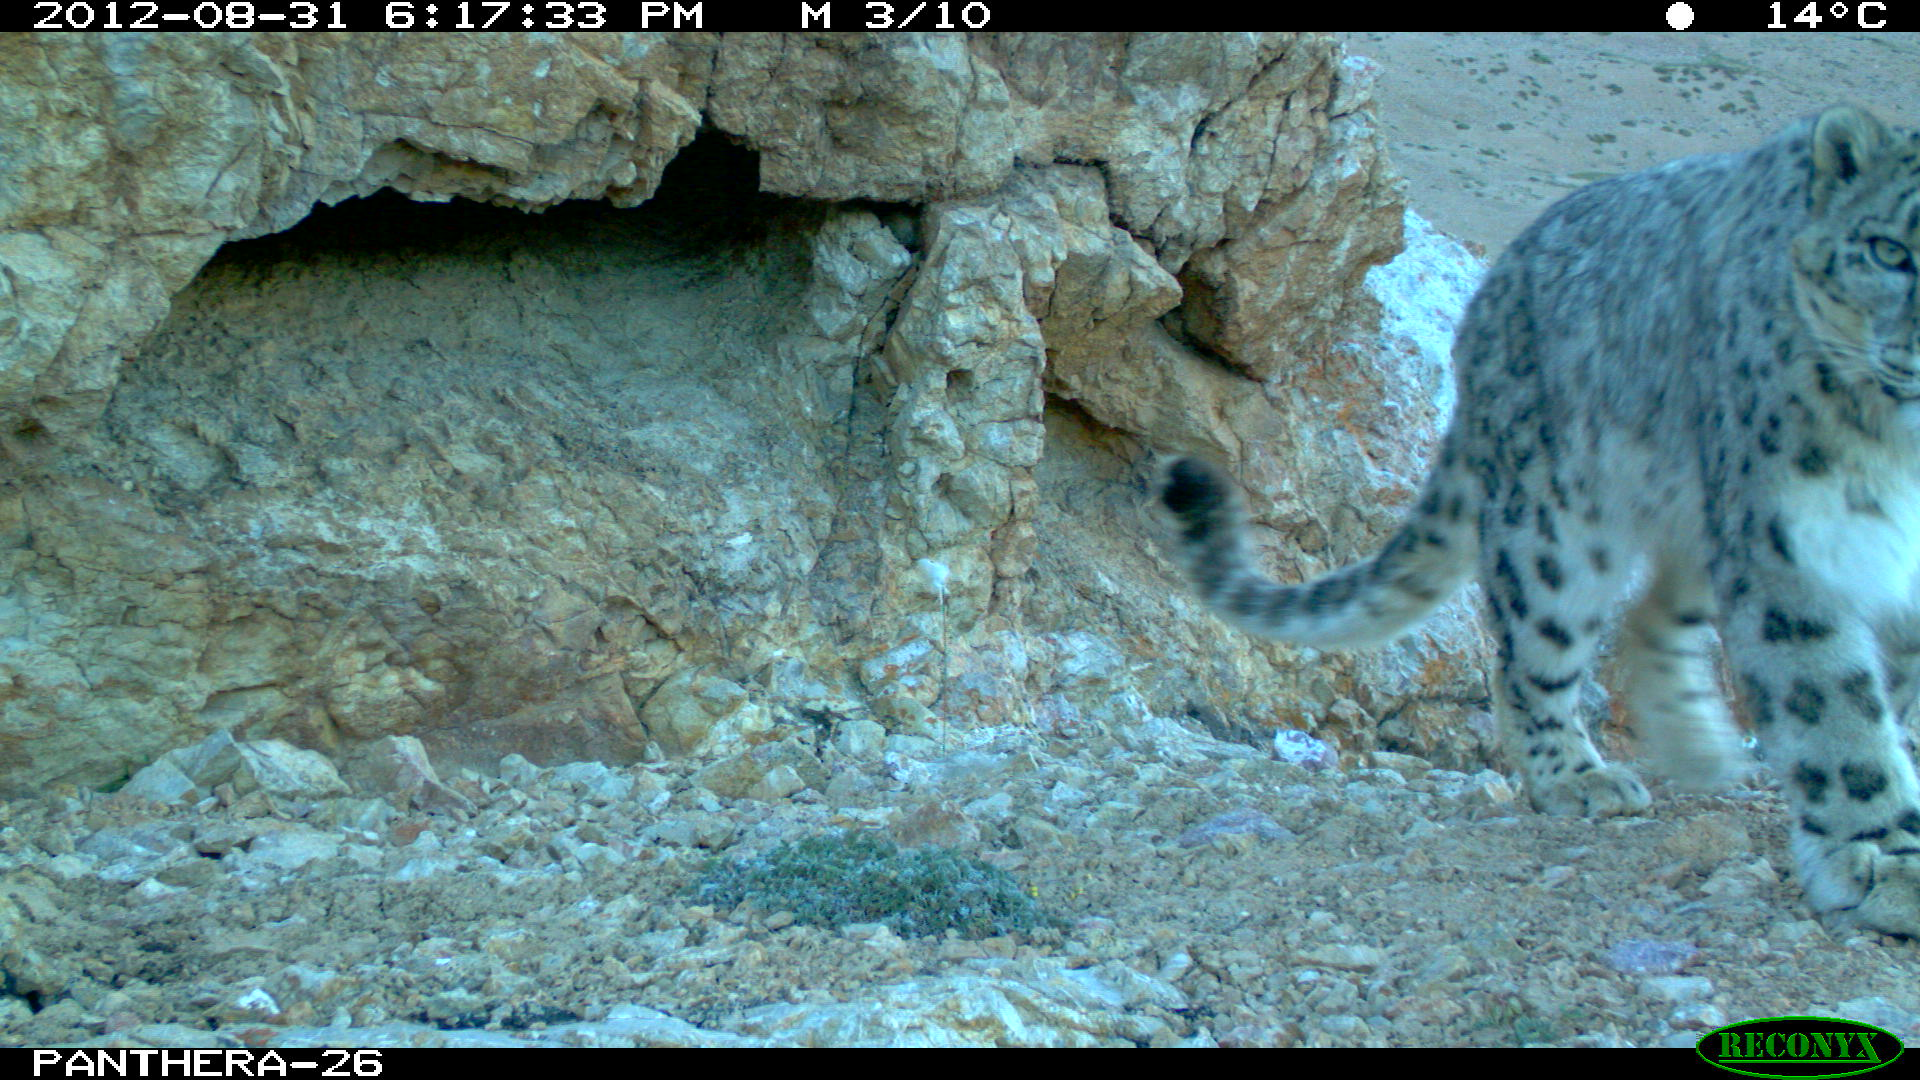Leopard: (1126, 82, 1920, 956)
